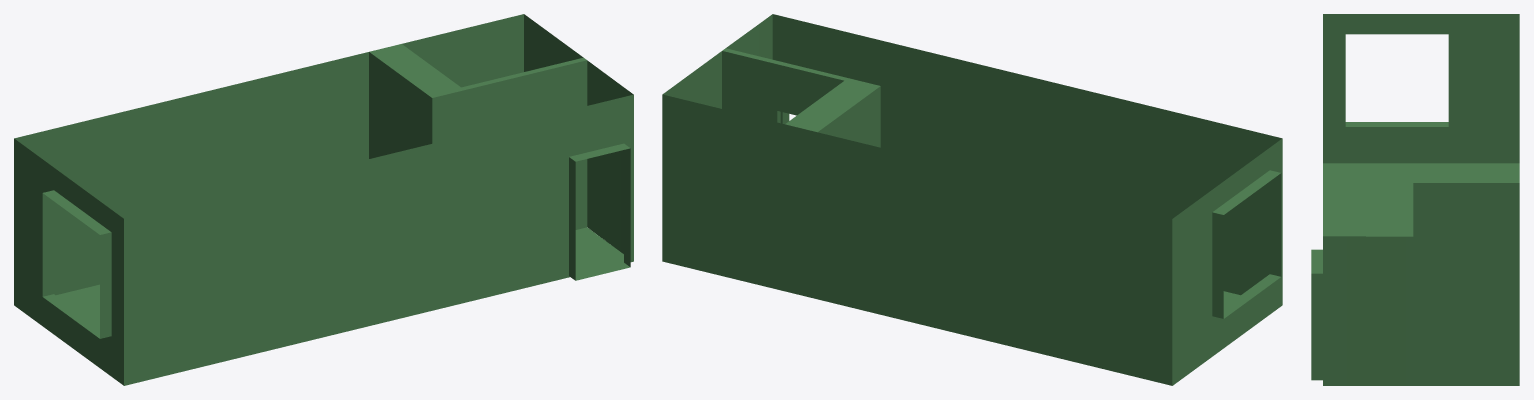
File: Rooms_A_1_3_33.FBX
3 renders of one model, left to right at view 1: azimuth 30°, elevation 25°; view 2: azimuth 150°, elevation 25°; view 3: azimuth 270°, elevation 25°, orthographic. The views are drawn at different scales.
Parts seen in each view (by area): view 1: Rooms_A_1_3_33; view 2: Rooms_A_1_3_33; view 3: Rooms_A_1_3_33.
Part boxes in pixels (<box>): Rooms_A_1_3_33: <box>14,14,633,385</box>; Rooms_A_1_3_33: <box>662,14,1282,385</box>; Rooms_A_1_3_33: <box>1311,14,1519,385</box>.
Size of the model in its own units: 9.14 by 2.8 by 3.54.
